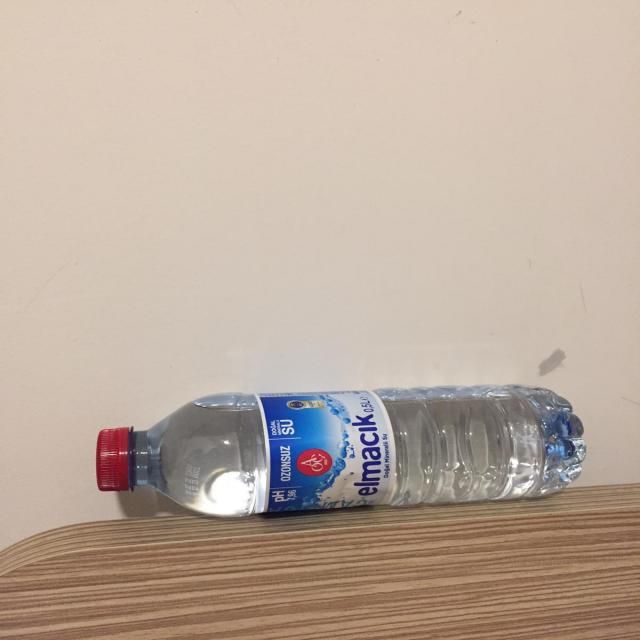bottle: (64, 368, 606, 537)
